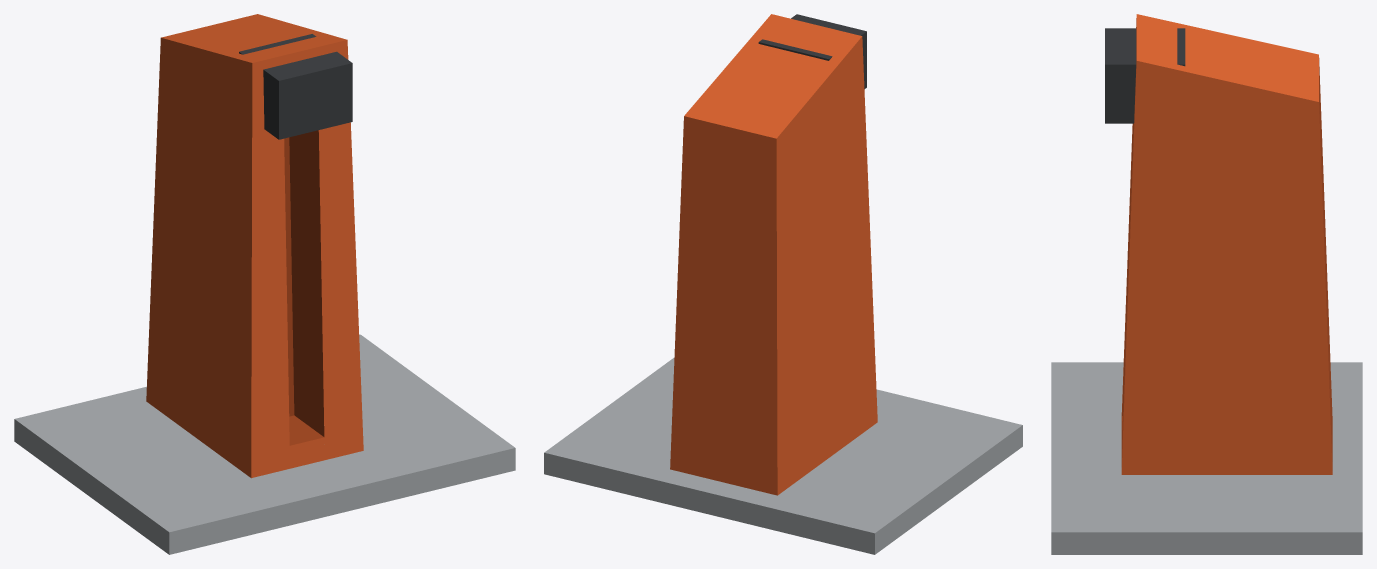
The model's file is bike-share-dock.glb.
The picture shows the model from 3 angles, left to right: view 1: azimuth 30°, elevation 25°; view 2: azimuth 150°, elevation 25°; view 3: azimuth 270°, elevation 25°; orthographic projection. The views are drawn at different scales.
Parts seen in each view (by area): view 1: bike-share-dock; view 2: bike-share-dock; view 3: bike-share-dock.
Boxes of the visible parts, x1,y1,x2,y2 form: bike-share-dock: (14, 14, 515, 554); bike-share-dock: (544, 14, 1022, 554); bike-share-dock: (1051, 14, 1362, 554).
Bounding box in the file's own units: 0.8001 × 0.95 × 0.62.
1 material, 1 textured.
